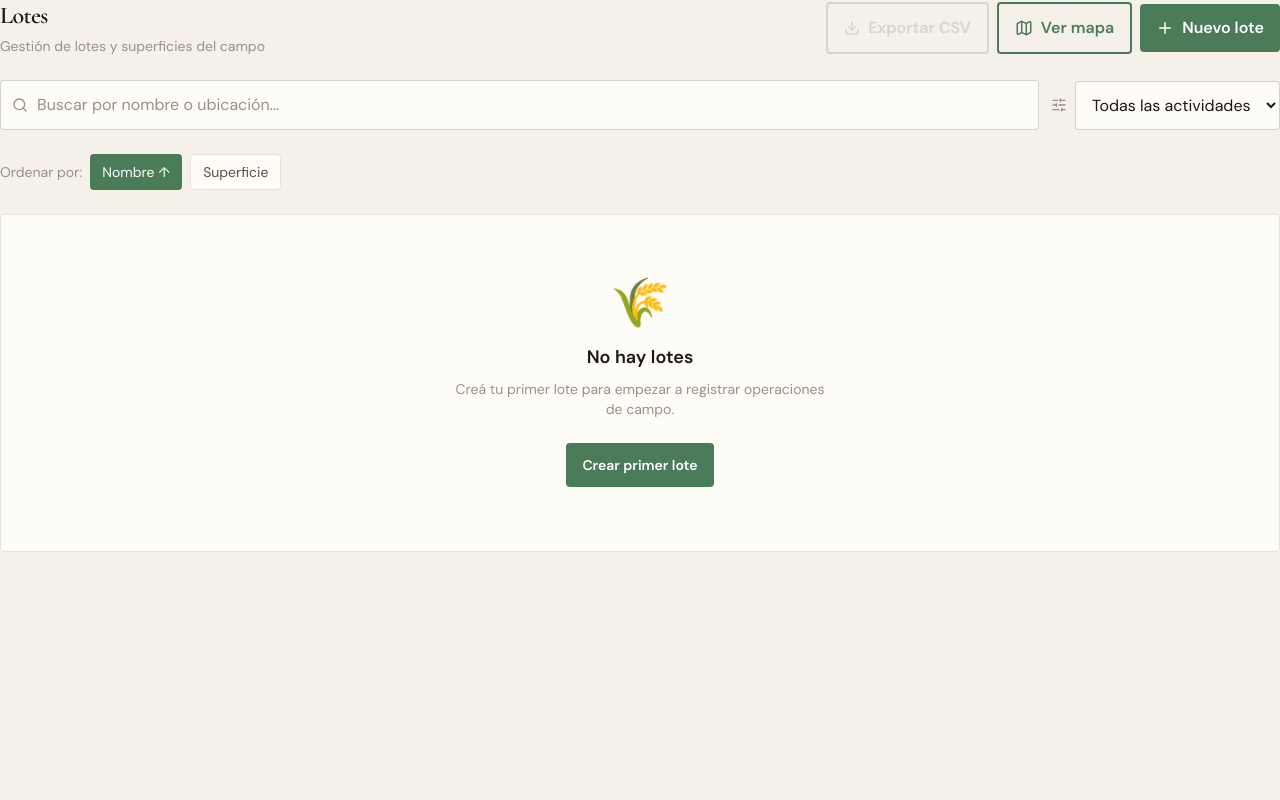
Scenario: LotesPage › opens create modal when clicking Nuevo lote button
The width and height of the screenshot is (1280, 800).
// Click the first "Nuevo lote" button (desktop version)
Step 1. Click the button "Nuevo lote" → (1210, 28), box left=1140, top=4, right=1279, bottom=52
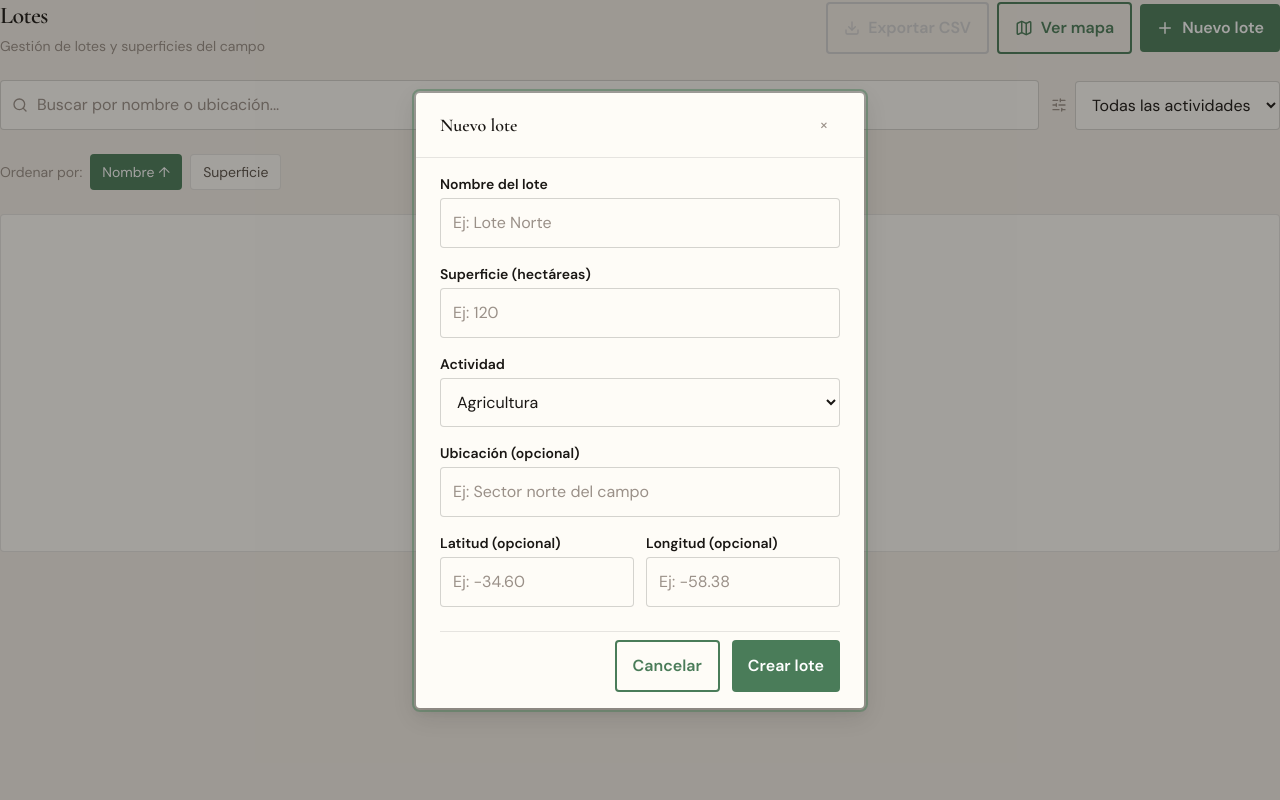
Expected: the dialog is shown
